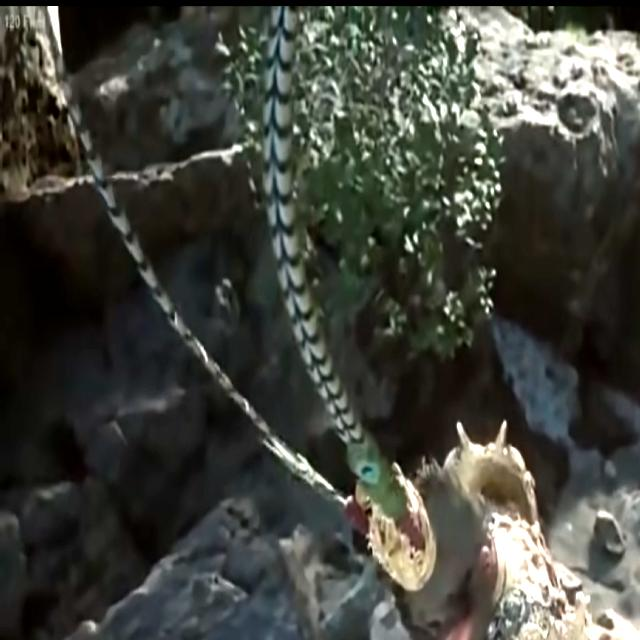Reeves-s Pheasant: (80, 131, 349, 505), (263, 6, 361, 436)
